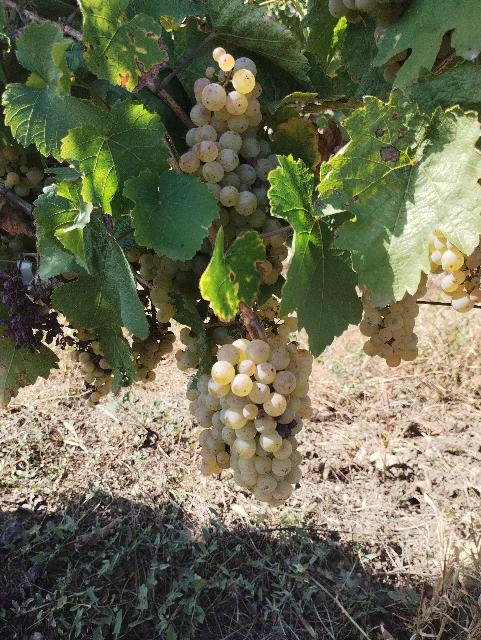grapes: (190, 336, 314, 508), (180, 46, 278, 231), (360, 271, 428, 368), (430, 230, 481, 312)
